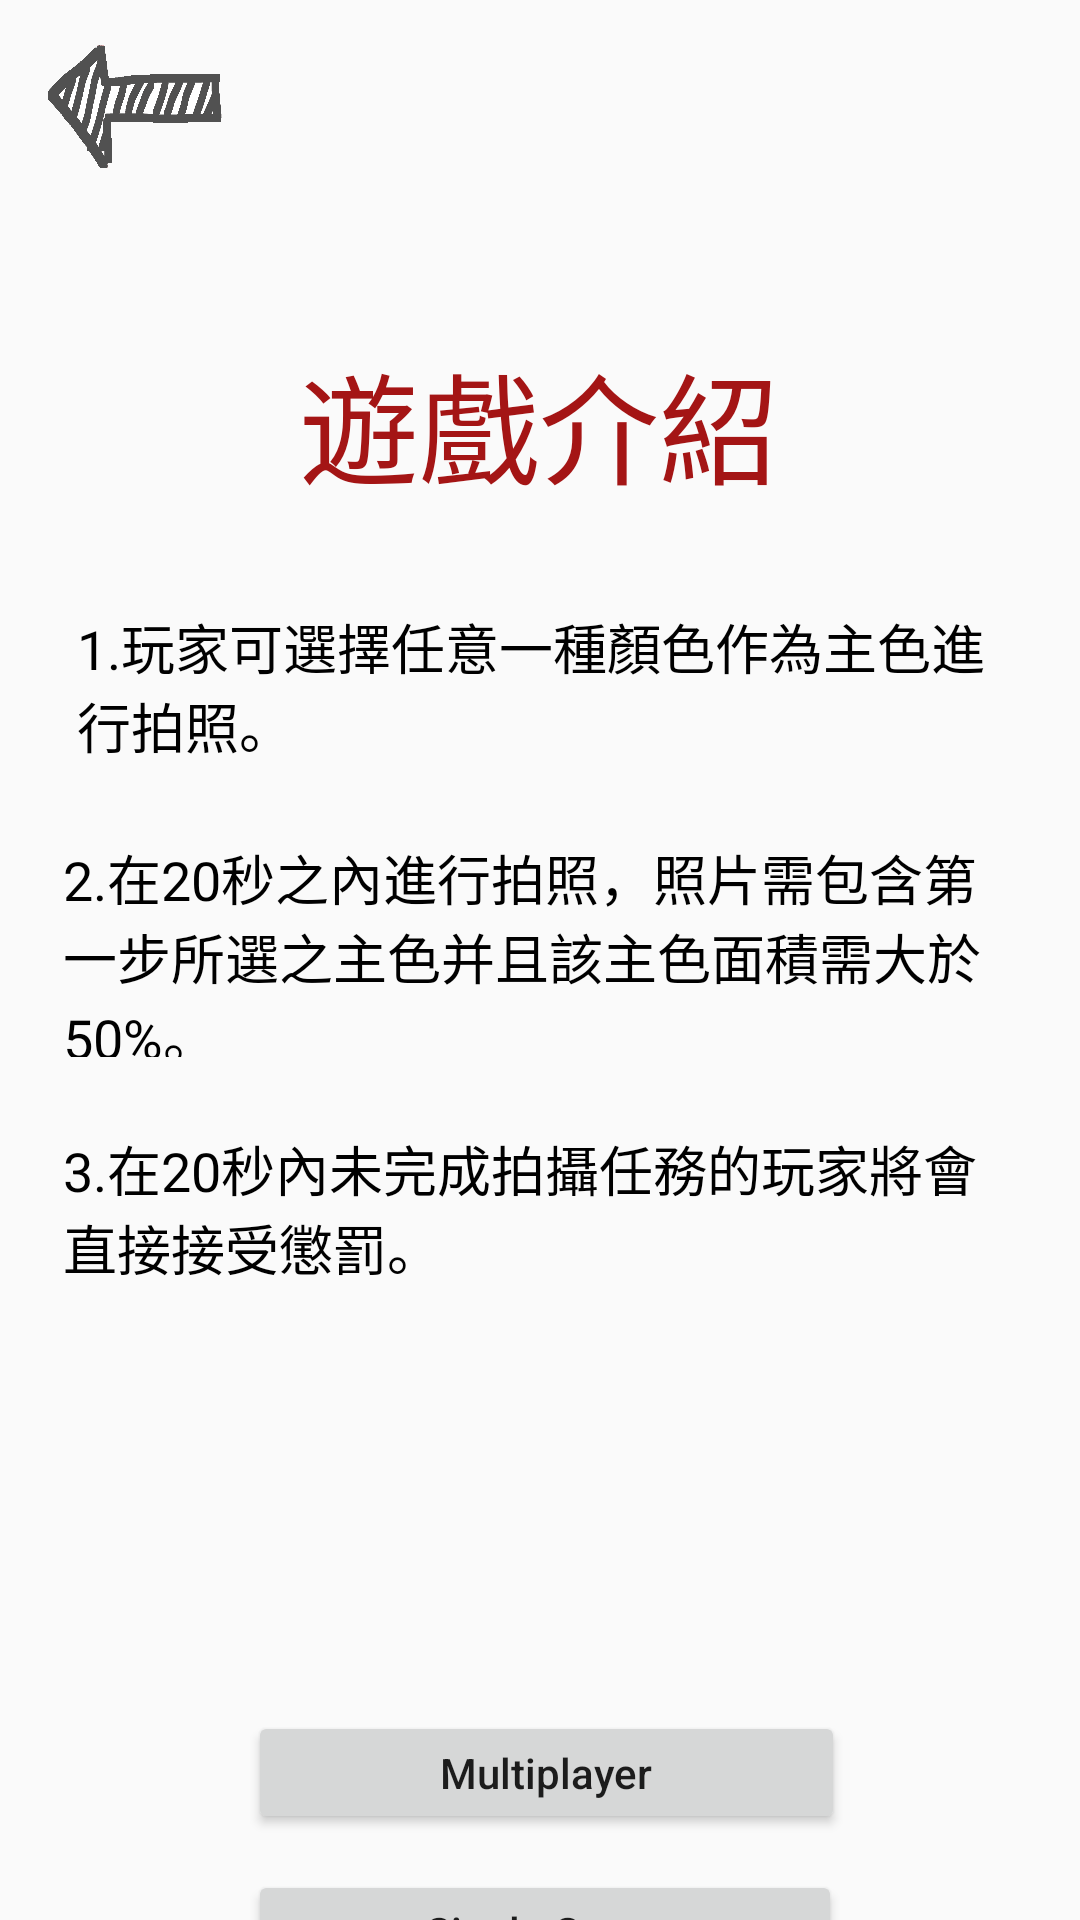

Icons on this 1080 x 1920 Android screen, each with its box as (x1, y1, x2, y2):
return: (48, 45, 222, 168)
